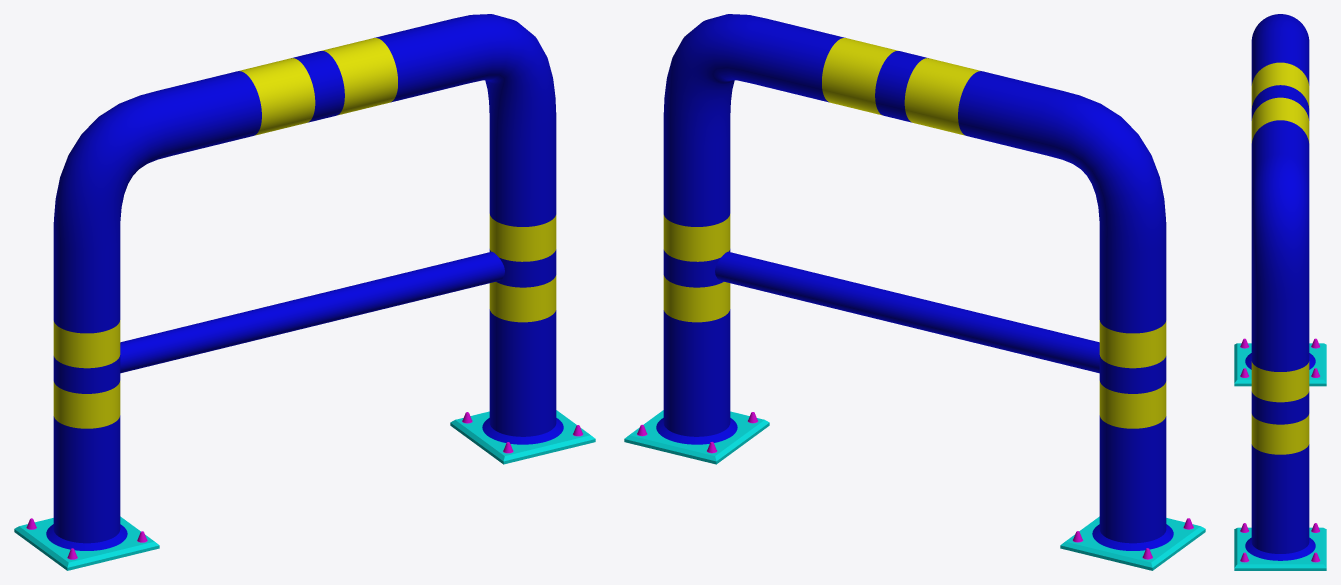
File: No_Parking_Signs.fbx
The picture shows the model from 3 angles, left to right: view 1: azimuth 30°, elevation 25°; view 2: azimuth 150°, elevation 25°; view 3: azimuth 270°, elevation 25°; orthographic projection. The views are drawn at different scales.
Parts seen in each view (by area): view 1: No_Parking_Signs; view 2: No_Parking_Signs; view 3: No_Parking_Signs.
Part boxes in pixels (bbox=[...]): No_Parking_Signs: bbox=[14, 14, 595, 570]; No_Parking_Signs: bbox=[624, 14, 1205, 570]; No_Parking_Signs: bbox=[1234, 14, 1326, 570].
Bounding box in the file's own units: 39.19 × 30.35 × 6.84.
